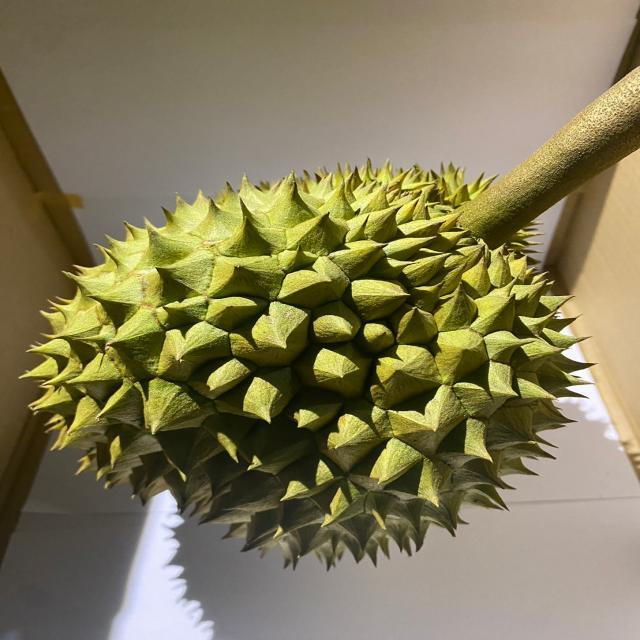immature: (15, 159, 599, 569)
